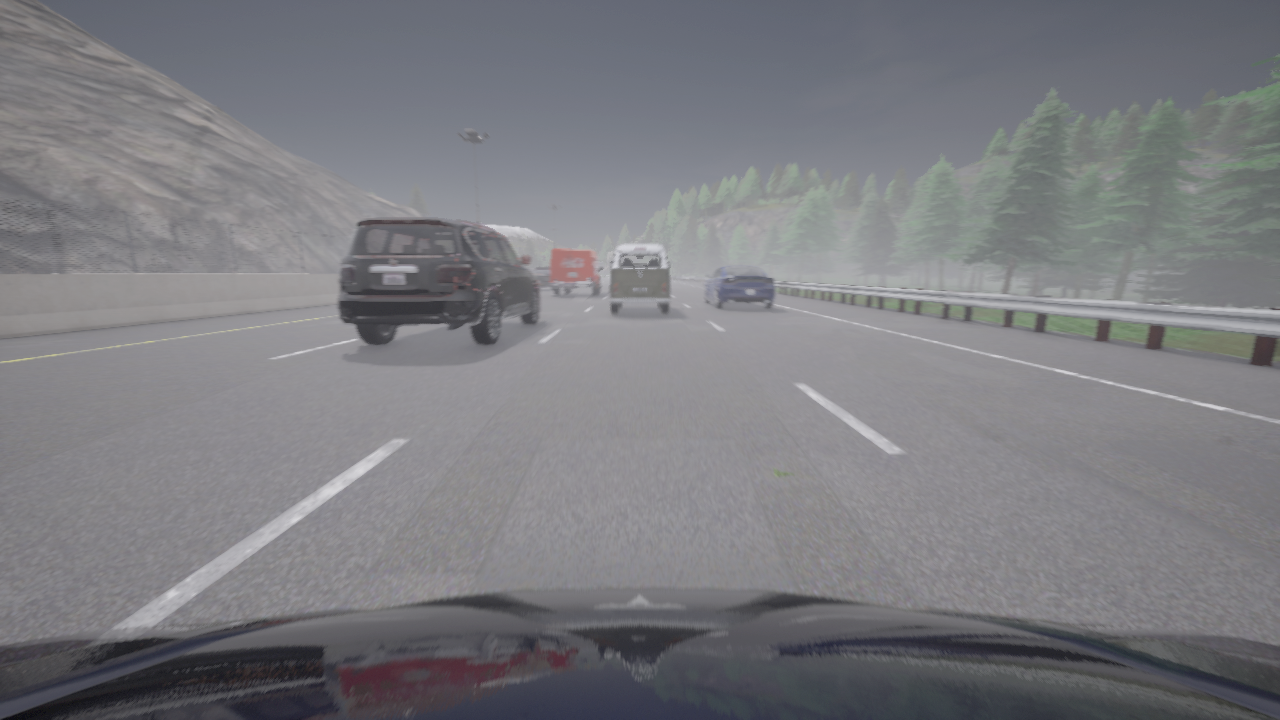cyclist: (0, 588, 1279, 719), (338, 218, 539, 345), (609, 244, 670, 313), (704, 264, 774, 308), (550, 249, 602, 295), (533, 267, 550, 287)
